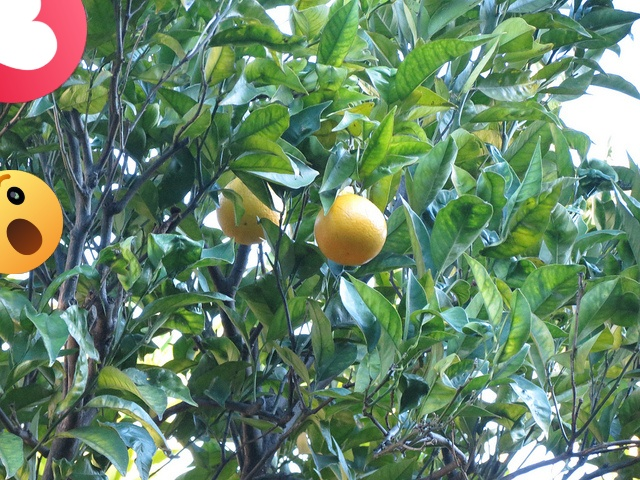love: (0, 0, 87, 103)
wow: (0, 170, 63, 274)
